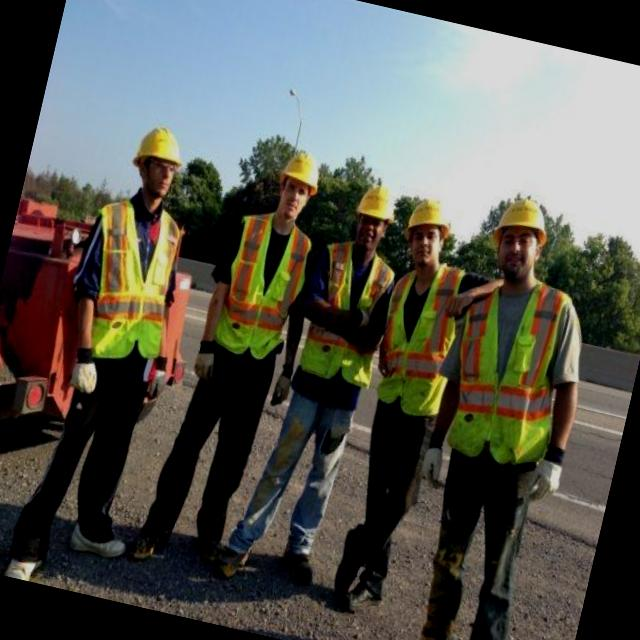helmet: (496, 193, 550, 245), (134, 123, 188, 170), (352, 180, 404, 222), (280, 146, 328, 189), (402, 196, 448, 238)
no-goggles: (495, 224, 541, 256), (407, 222, 445, 256), (141, 161, 178, 188), (277, 179, 313, 204), (282, 180, 308, 203), (359, 215, 384, 232)
vest: (440, 272, 569, 474), (76, 203, 180, 367), (210, 212, 316, 370), (290, 247, 394, 391), (371, 260, 463, 416)
